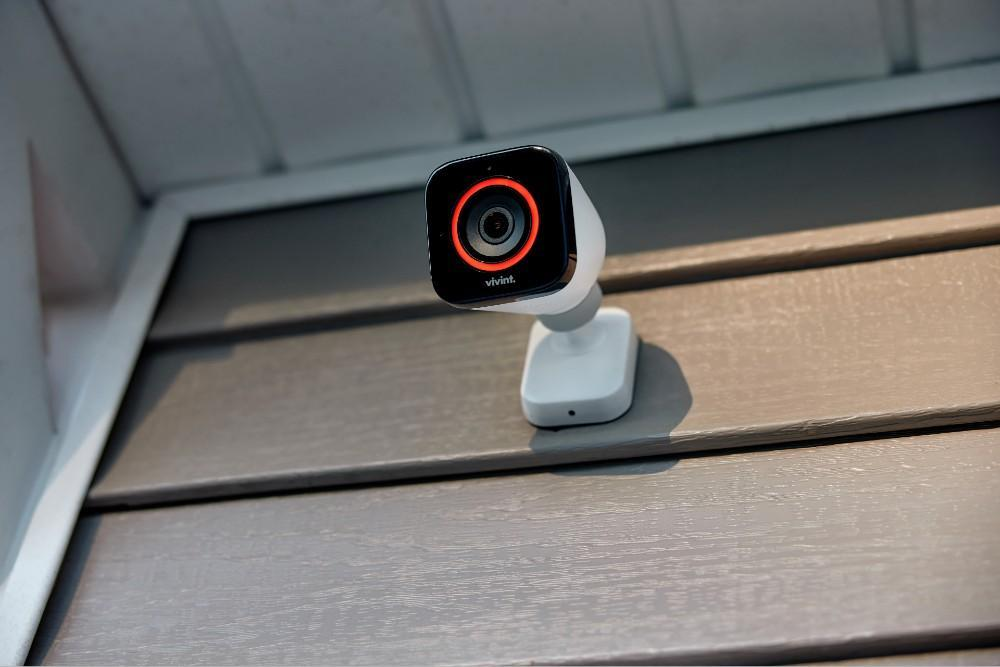Security camera: (423, 142, 639, 429)
